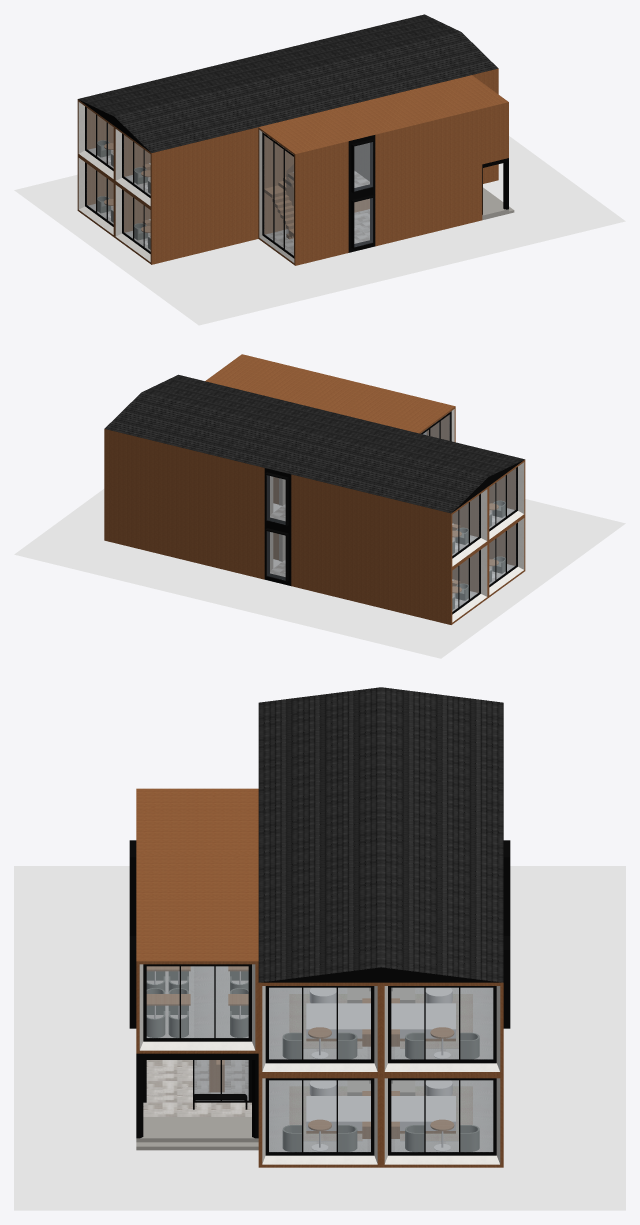
File: 文旅民宿8间（自然风-渲染-贴图）.obj
3 views of the same model, one above another, from view 1: azimuth 30°, elevation 25°; view 2: azimuth 150°, elevation 25°; view 3: azimuth 270°, elevation 25° (orthographic). The views are drawn at different scales.
Visible parts, largest first — view 1: Mesh428 Group443 Model, Mesh33 Group38 Group1 Model, Mesh32 Group37 Group1 Model, Mesh383 Group394 ___5_7 ___6_7 Group1 Model, Mesh231 Group230 ___5_3 ___6_3 Group1 Model, Mesh122 Group113 Group1 Model, Mesh48 Group56 Group53 Group1 Model, Mesh54 Group64 Group53 Group1 Model, Mesh46 Group54 Group53 Group1 Model, Mesh49 Group58 Group57 Group53 Group1 Model, Mesh47 Group55 Group53 Group1 Model, Mesh6 Group8 Group5 Group1 Model (+50 smaller); view 2: Mesh428 Group443 Model, Mesh269 Group271 ___5_4 ___6_4 Group1 Model, Mesh421 Group435 ___5_8 ___6_8 Group1 Model, Mesh154 Group147 ___5_1 ___6_1 Group1 Model, Mesh344 Group352 ___5_6 ___6_6 Group1 Model, Mesh417 Group431 ___5_8 ___6_8 Group1 Model, Mesh265 Group267 ___5_4 ___6_4 Group1 Model, Mesh33 Group38 Group1 Model, Mesh231 Group230 ___5_3 ___6_3 Group1 Model, Mesh383 Group394 ___5_7 ___6_7 Group1 Model, Mesh153 Group146 ___5_1 ___6_1 Group1 Model, Mesh266 Group268 ___5_4 ___6_4 Group1 Model (+59 smaller); view 3: Mesh428 Group443 Model, Mesh198 Group195 ___5_2 ___6_2 Group1 Model, Mesh312 Group318 ___5_5 ___6_5 Group1 Model, Mesh53 Group63 Group57 Group53 Group1 Model, Mesh160 Group154 ___5_1 ___6_1 Group1 Model, Mesh350 Group359 ___5_6 ___6_6 Group1 Model, Mesh49 Group58 Group57 Group53 Group1 Model, Mesh307 Group312 ___5_5 ___6_5 Group1 Model, Mesh193 Group189 ___5_2 ___6_2 Group1 Model, Mesh345 Group353 ___5_6 ___6_6 Group1 Model, Mesh155 Group148 ___5_1 ___6_1 Group1 Model, Mesh54 Group64 Group53 Group1 Model (+56 smaller).
Part boxes in pixels (box(x1,y1,x2,y2)): Mesh428 Group443 Model: box(14, 136, 625, 325); Mesh33 Group38 Group1 Model: box(258, 120, 321, 265); Mesh32 Group37 Group1 Model: box(285, 114, 348, 259); Mesh383 Group394 ___5_7 ___6_7 Group1 Model: box(114, 126, 178, 208); Mesh231 Group230 ___5_3 ___6_3 Group1 Model: box(114, 182, 178, 264); Mesh122 Group113 Group1 Model: box(264, 135, 293, 255); Mesh48 Group56 Group53 Group1 Model: box(339, 101, 402, 190); Mesh54 Group64 Group53 Group1 Model: box(419, 81, 482, 170); Mesh46 Group54 Group53 Group1 Model: box(392, 88, 455, 177); Mesh49 Group58 Group57 Group53 Group1 Model: box(445, 75, 508, 164); Mesh47 Group55 Group53 Group1 Model: box(365, 94, 428, 183); Mesh6 Group8 Group5 Group1 Model: box(354, 184, 402, 246); Mesh428 Group443 Model: box(14, 489, 625, 658); Mesh269 Group271 ___5_4 ___6_4 Group1 Model: box(424, 542, 488, 624); Mesh421 Group435 ___5_8 ___6_8 Group1 Model: box(424, 487, 488, 569); Mesh154 Group147 ___5_1 ___6_1 Group1 Model: box(237, 517, 281, 579); Mesh344 Group352 ___5_6 ___6_6 Group1 Model: box(237, 461, 281, 523); Mesh417 Group431 ___5_8 ___6_8 Group1 Model: box(398, 500, 459, 562); Mesh265 Group267 ___5_4 ___6_4 Group1 Model: box(398, 556, 459, 618); Mesh33 Group38 Group1 Model: box(392, 400, 455, 442); Mesh231 Group230 ___5_3 ___6_3 Group1 Model: box(488, 515, 525, 597); Mesh383 Group394 ___5_7 ___6_7 Group1 Model: box(488, 460, 525, 541); Mesh153 Group146 ___5_1 ___6_1 Group1 Model: box(157, 498, 184, 559); Mesh266 Group268 ___5_4 ___6_4 Group1 Model: box(344, 543, 371, 605); Mesh428 Group443 Model: box(14, 866, 625, 1210); Mesh198 Group195 ___5_2 ___6_2 Group1 Model: box(269, 1080, 370, 1151); Mesh312 Group318 ___5_5 ___6_5 Group1 Model: box(269, 988, 370, 1059); Mesh53 Group63 Group57 Group53 Group1 Model: box(147, 966, 248, 1037); Mesh160 Group154 ___5_1 ___6_1 Group1 Model: box(391, 1080, 492, 1151); Mesh350 Group359 ___5_6 ___6_6 Group1 Model: box(391, 988, 492, 1059); Mesh49 Group58 Group57 Group53 Group1 Model: box(136, 939, 258, 1053); Mesh307 Group312 ___5_5 ___6_5 Group1 Model: box(258, 982, 381, 1075); Mesh193 Group189 ___5_2 ___6_2 Group1 Model: box(258, 1075, 381, 1167); Mesh345 Group353 ___5_6 ___6_6 Group1 Model: box(381, 982, 503, 1075); Mesh155 Group148 ___5_1 ___6_1 Group1 Model: box(381, 1075, 503, 1167); Mesh54 Group64 Group53 Group1 Model: box(136, 918, 258, 1024).
Bounding box in the file's own units: 24000 × 6500 × 18000.
Materials: 16 (9 with a texture image).
